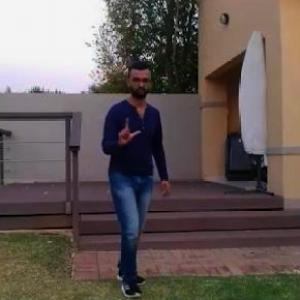land_hand: (114, 112, 148, 152)
